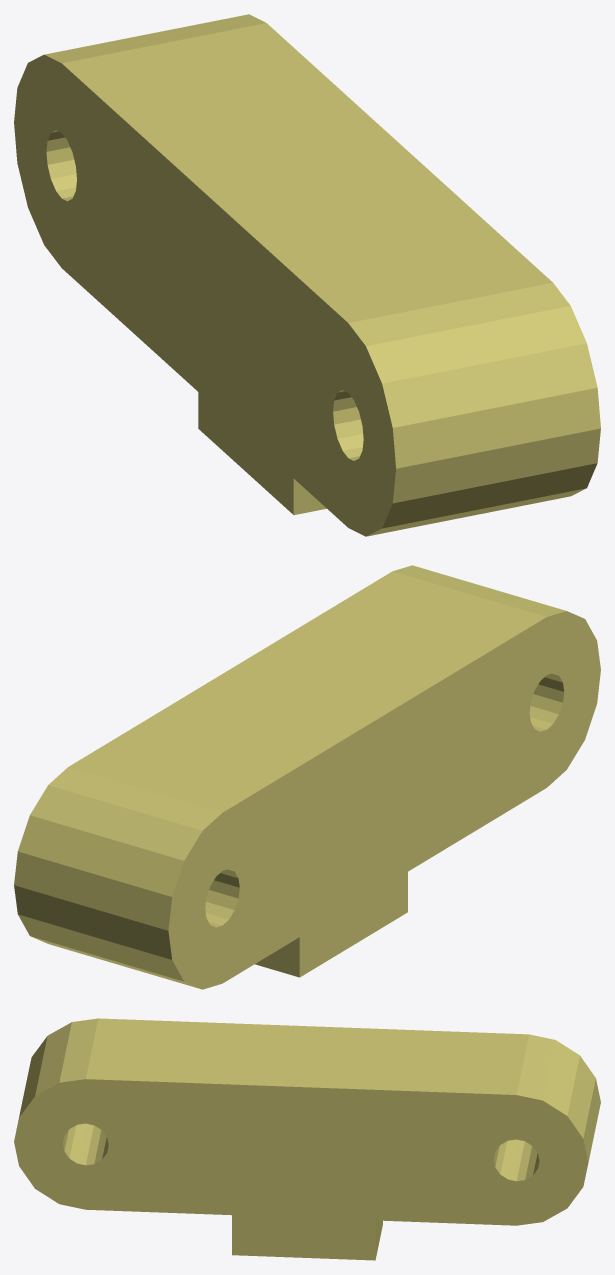
File: LARM_INDEX2_LINK_mesh.dae
3 renders of one model, top to bottom at view 1: azimuth 30°, elevation 25°; view 2: azimuth 150°, elevation 25°; view 3: azimuth 270°, elevation 25°, orthographic. The views are drawn at different scales.
Parts seen in each view (by area): view 1: LARM_INDEX2_LINK; view 2: LARM_INDEX2_LINK; view 3: LARM_INDEX2_LINK.
Part boxes in pixels (<box>): LARM_INDEX2_LINK: <box>14,14,600,536</box>; LARM_INDEX2_LINK: <box>14,565,600,989</box>; LARM_INDEX2_LINK: <box>14,1018,600,1260</box>.
Size of the model in its own units: 0.0134 by 0.014 by 0.0407.
